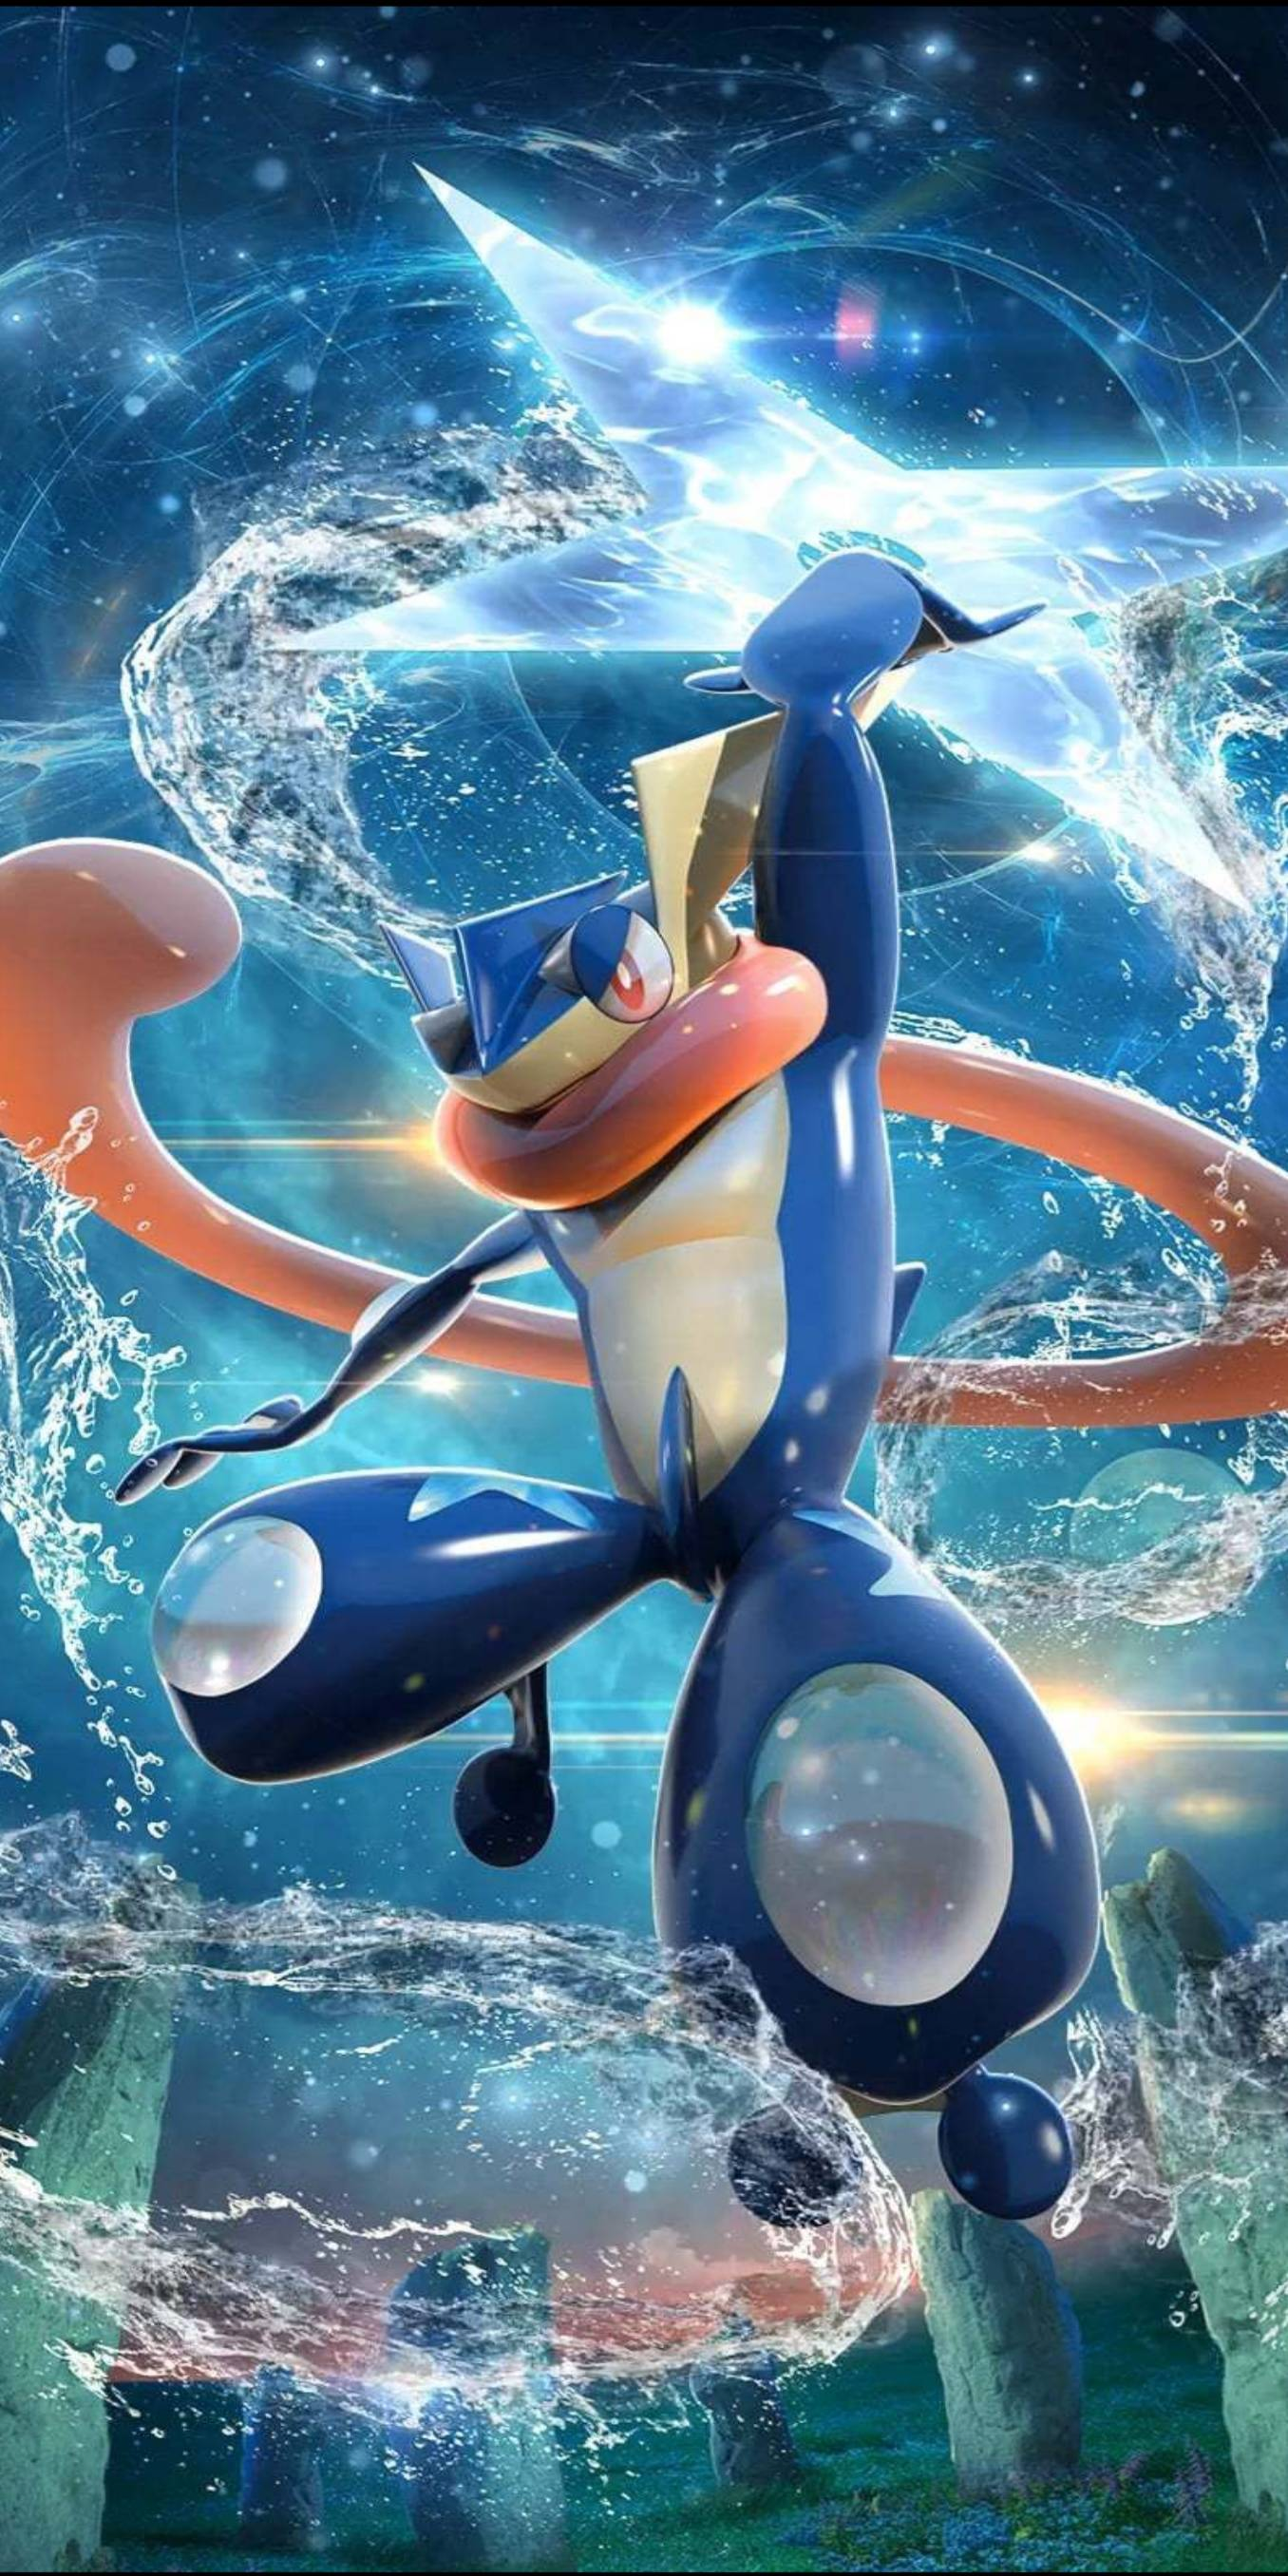greninja: (5, 483, 1097, 2247)
